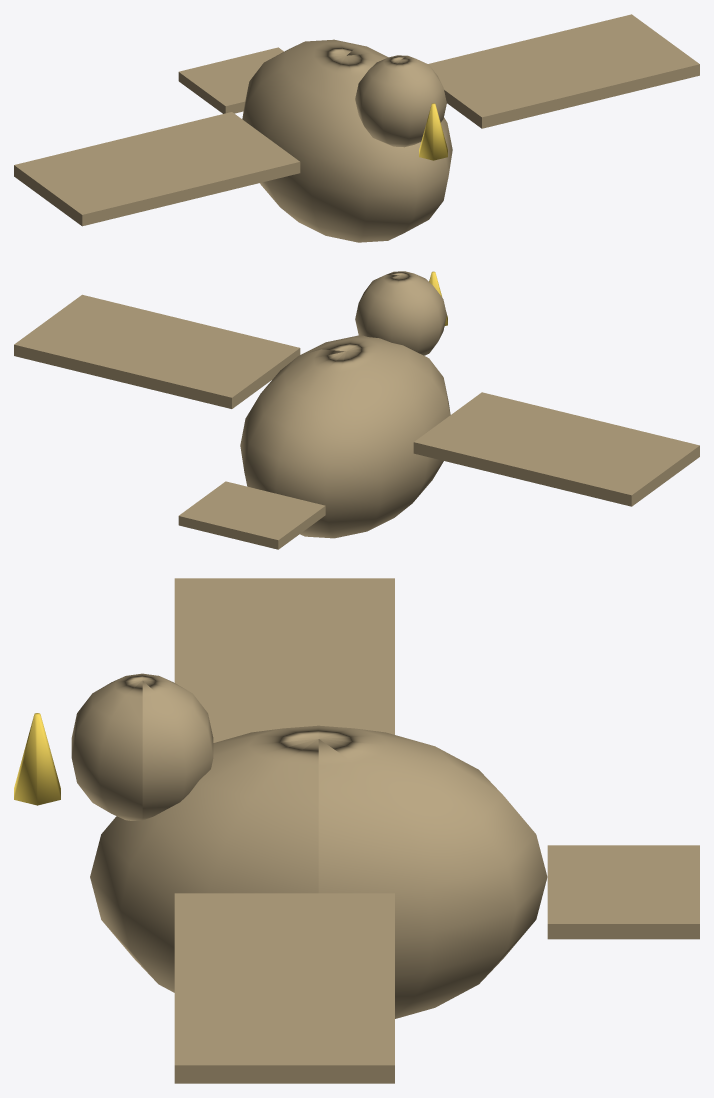
3 views of the same model, one above another, from view 1: azimuth 30°, elevation 25°; view 2: azimuth 150°, elevation 25°; view 3: azimuth 270°, elevation 25° (orthographic). The views are drawn at different scales.
Parts seen in each view (by area): view 1: Generated3DMesh; view 2: Generated3DMesh; view 3: Generated3DMesh.
Part boxes in pixels (bbox=[...]): Generated3DMesh: bbox=[14, 14, 699, 242]; Generated3DMesh: bbox=[14, 271, 699, 549]; Generated3DMesh: bbox=[14, 578, 699, 1083].
Bounding box in the file's own units: 3.4 × 1.09 × 2.02.
